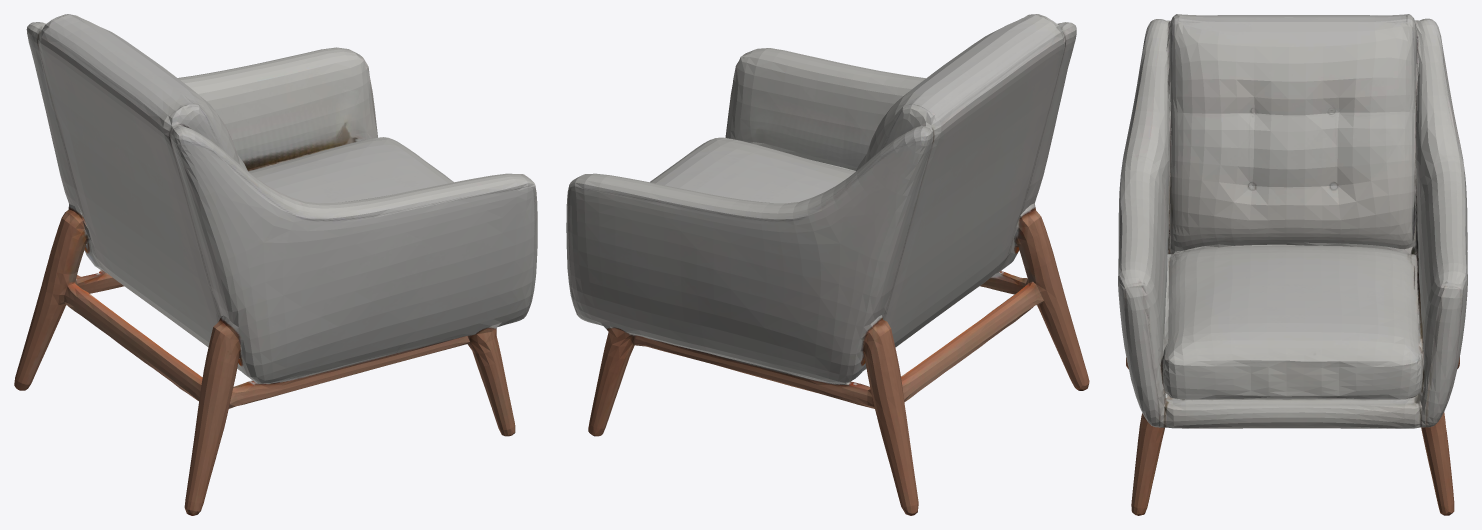
The model's file is modernchair.glb.
3 renders of one model, left to right at view 1: azimuth 30°, elevation 25°; view 2: azimuth 150°, elevation 25°; view 3: azimuth 270°, elevation 25°, orthographic. The views are drawn at different scales.
Visible parts, largest first — view 1: tripo_node_c12215bf-e8d1-4ab6-8da0-db4b0281288f; view 2: tripo_node_c12215bf-e8d1-4ab6-8da0-db4b0281288f; view 3: tripo_node_c12215bf-e8d1-4ab6-8da0-db4b0281288f.
Part boxes in pixels (x1,y1,x2,y2): tripo_node_c12215bf-e8d1-4ab6-8da0-db4b0281288f: (14,14,537,515); tripo_node_c12215bf-e8d1-4ab6-8da0-db4b0281288f: (566,14,1089,515); tripo_node_c12215bf-e8d1-4ab6-8da0-db4b0281288f: (1118,14,1467,515).
Bounding box in the file's own units: 0.976 × 0.9972 × 0.8739.
Materials: 1 (1 with a texture image).
